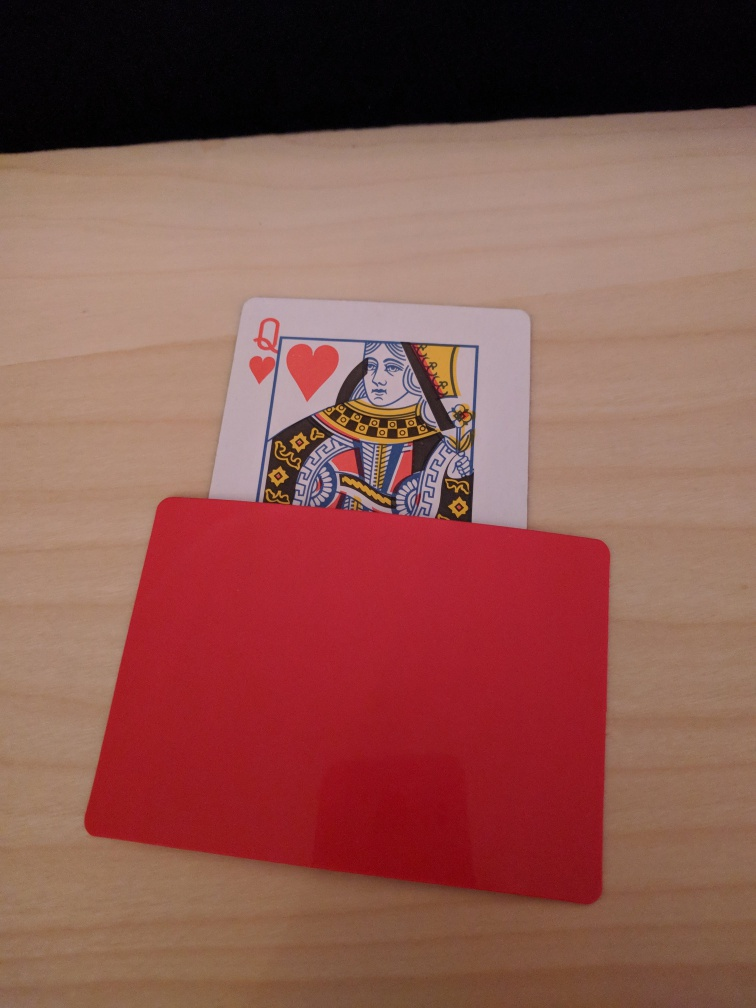queen: (206, 296, 533, 532)
